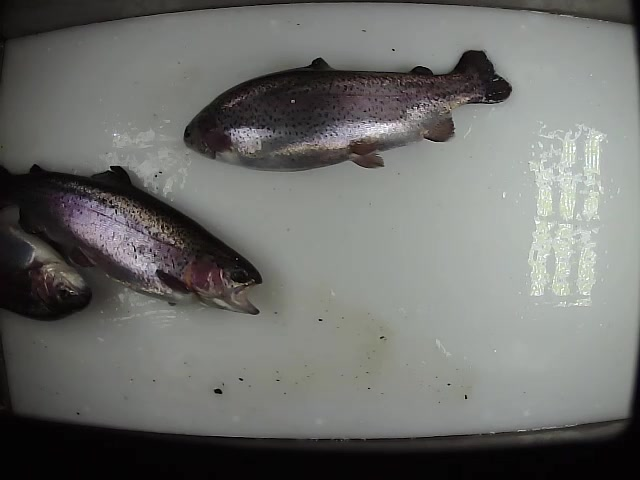fish: (180, 46, 514, 176), (1, 160, 266, 319), (1, 226, 94, 321)
